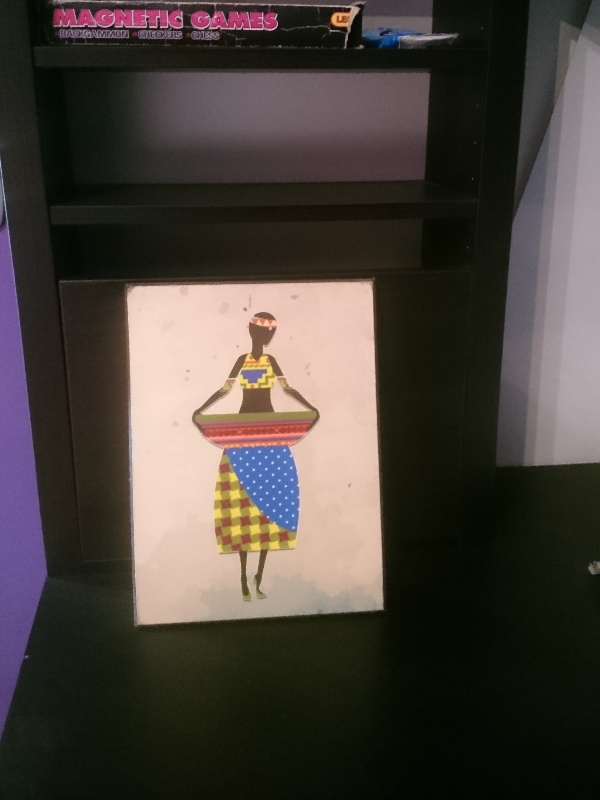my image: (133, 281, 377, 623)
